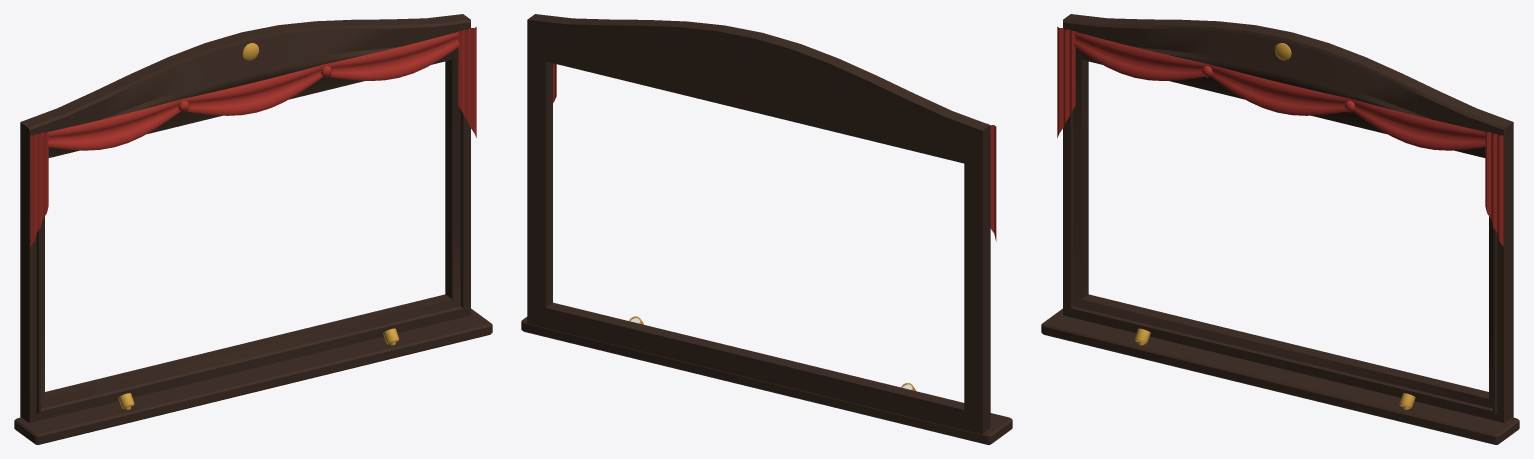
File: screen_frame.glb
The picture shows the model from 3 angles, left to right: view 1: azimuth 30°, elevation 25°; view 2: azimuth 150°, elevation 25°; view 3: azimuth 330°, elevation 25°; orthographic projection. The views are drawn at different scales.
Visible parts, largest first — view 1: Frame, Curtain; view 2: Frame, Curtain; view 3: Frame, Curtain.
Boxes of the visible parts, box(x1,y1,x2,y2) form: Frame: box(14, 14, 492, 444); Curtain: box(30, 26, 476, 246); Frame: box(521, 14, 1012, 444); Curtain: box(553, 63, 996, 241); Frame: box(1041, 14, 1519, 444); Curtain: box(1057, 26, 1503, 246).
Size of the model in its own units: 0.9 by 0.64 by 0.08.
